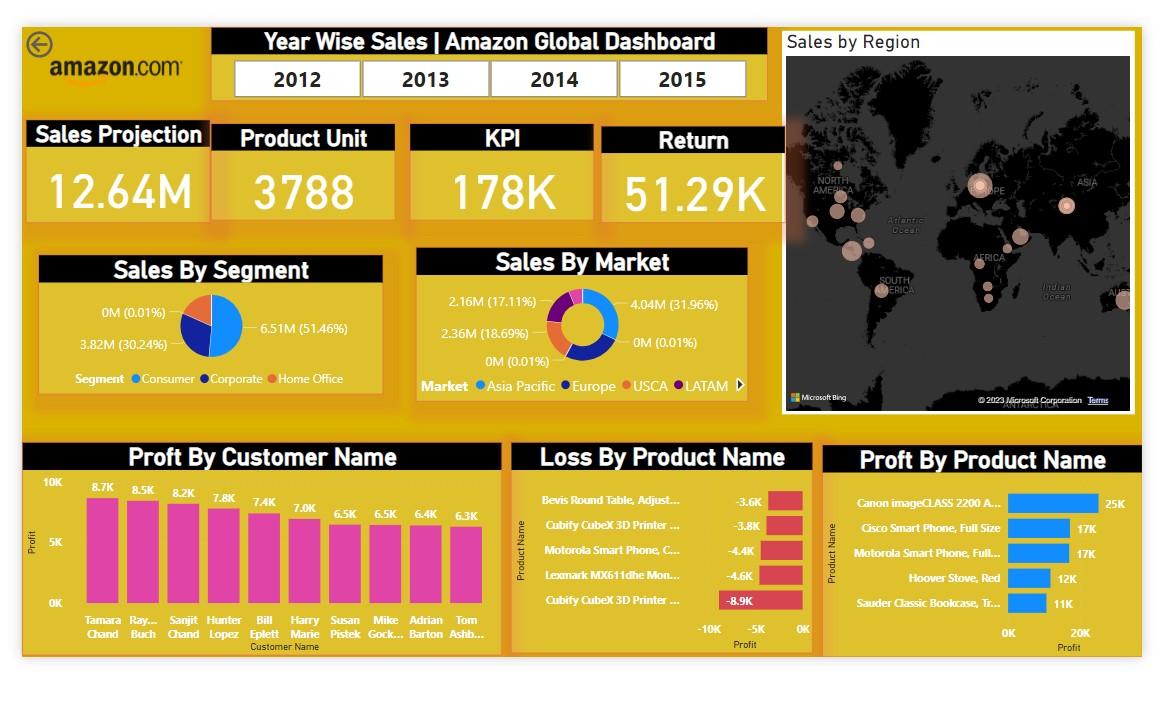

Layout of this report page (visuals, bound fields, positions):
{"tool":"powerbi","page":{"name":"Page 1","canvas":[1280,720],"ordinal":0},"visuals":[{"type":"actionButton","box":[0,0,100,40],"z":0},{"type":"slicer","title":"Year Wise Sales | Amazon Global Dashboard ","fields":{"Values":["Orders.Year"]},"box":[215.4,0,636.6,85.1],"z":1000},{"type":"image","box":[0,0,215.7,105.7],"z":2000},{"type":"pieChart","title":"Sales By Segment ","fields":{"Y":["Orders.Sales","Orders.Ship Date"],"Category":["Orders.Segment"]},"box":[18.6,260,394.3,160],"z":3000},{"type":"donutChart","title":"Sales By Market","fields":{"Y":["Orders.Sales","Orders.Ship Date"],"Category":["Orders.Market"]},"box":[450,251.4,380,177.1],"z":4000},{"type":"columnChart","title":"Proft By Customer Name ","fields":{"Category":["Orders.Customer Name"],"Y":["Orders.Profit"]},"box":[0,474.7,548.8,244.2],"z":5000},{"type":"map","fields":{"Category":["Orders.Region"],"Size":["Orders.Sales"]},"box":[868.6,4.3,402.9,438.6],"z":6000},{"type":"clusteredBarChart","title":"Loss By Product Name","fields":{"Category":["Orders.Product Name"],"Y":["Orders.Profit"]},"box":[548.8,477.4,345.7,241.5],"z":7000},{"type":"clusteredBarChart","title":"Proft By Product Name ","fields":{"Category":["Orders.Product Name"],"Y":["Orders.Profit"]},"box":[913.7,477.4,366.3,242.8],"z":8000},{"type":"card","title":"Sales Projection ","fields":{"Values":["Orders.Sales"]},"box":[4.3,105.7,211.4,118.6],"z":9000},{"type":"card","title":"Product Unit ","fields":{"Values":["Orders.Product Name"]},"box":[215.7,110,211.4,111.4],"z":10000},{"type":"card","title":"KPI ","fields":{"Values":["Orders.Quantity"]},"box":[442.9,110,211.4,111.4],"z":11000},{"type":"card","title":"Return ","fields":{"Values":["Orders.Ship Date"]},"box":[661.4,112.9,211.4,111.4],"z":12000}]}

Visuals, with their boxes in screenshot pixels (x1, y1, x2, y2):
actionButton: <box>18,52,105,87</box>
"Year Wise Sales | Amazon Global Dashboard " slicer: <box>206,52,761,126</box>
image: <box>18,52,206,144</box>
"Sales By Segment " pieChart: <box>35,279,378,418</box>
"Sales By Market" donutChart: <box>411,271,742,425</box>
"Proft By Customer Name " columnChart: <box>18,466,497,679</box>
map - Orders.Region x Orders.Sales: <box>775,56,1127,438</box>
"Loss By Product Name" clusteredBarChart: <box>497,468,798,679</box>
"Proft By Product Name " clusteredBarChart: <box>815,468,1134,680</box>
"Sales Projection " card: <box>22,144,206,247</box>
"Product Unit " card: <box>206,148,391,245</box>
"KPI " card: <box>404,148,589,245</box>
"Return " card: <box>595,150,779,247</box>
